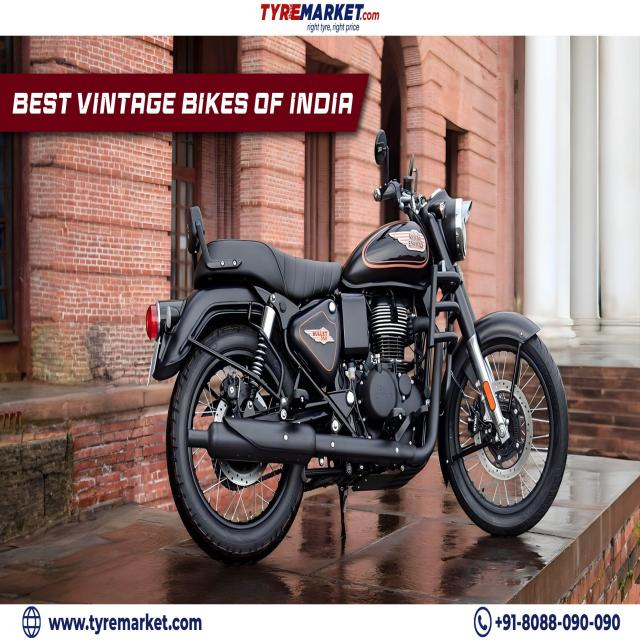Bike: (147, 144, 569, 563)
